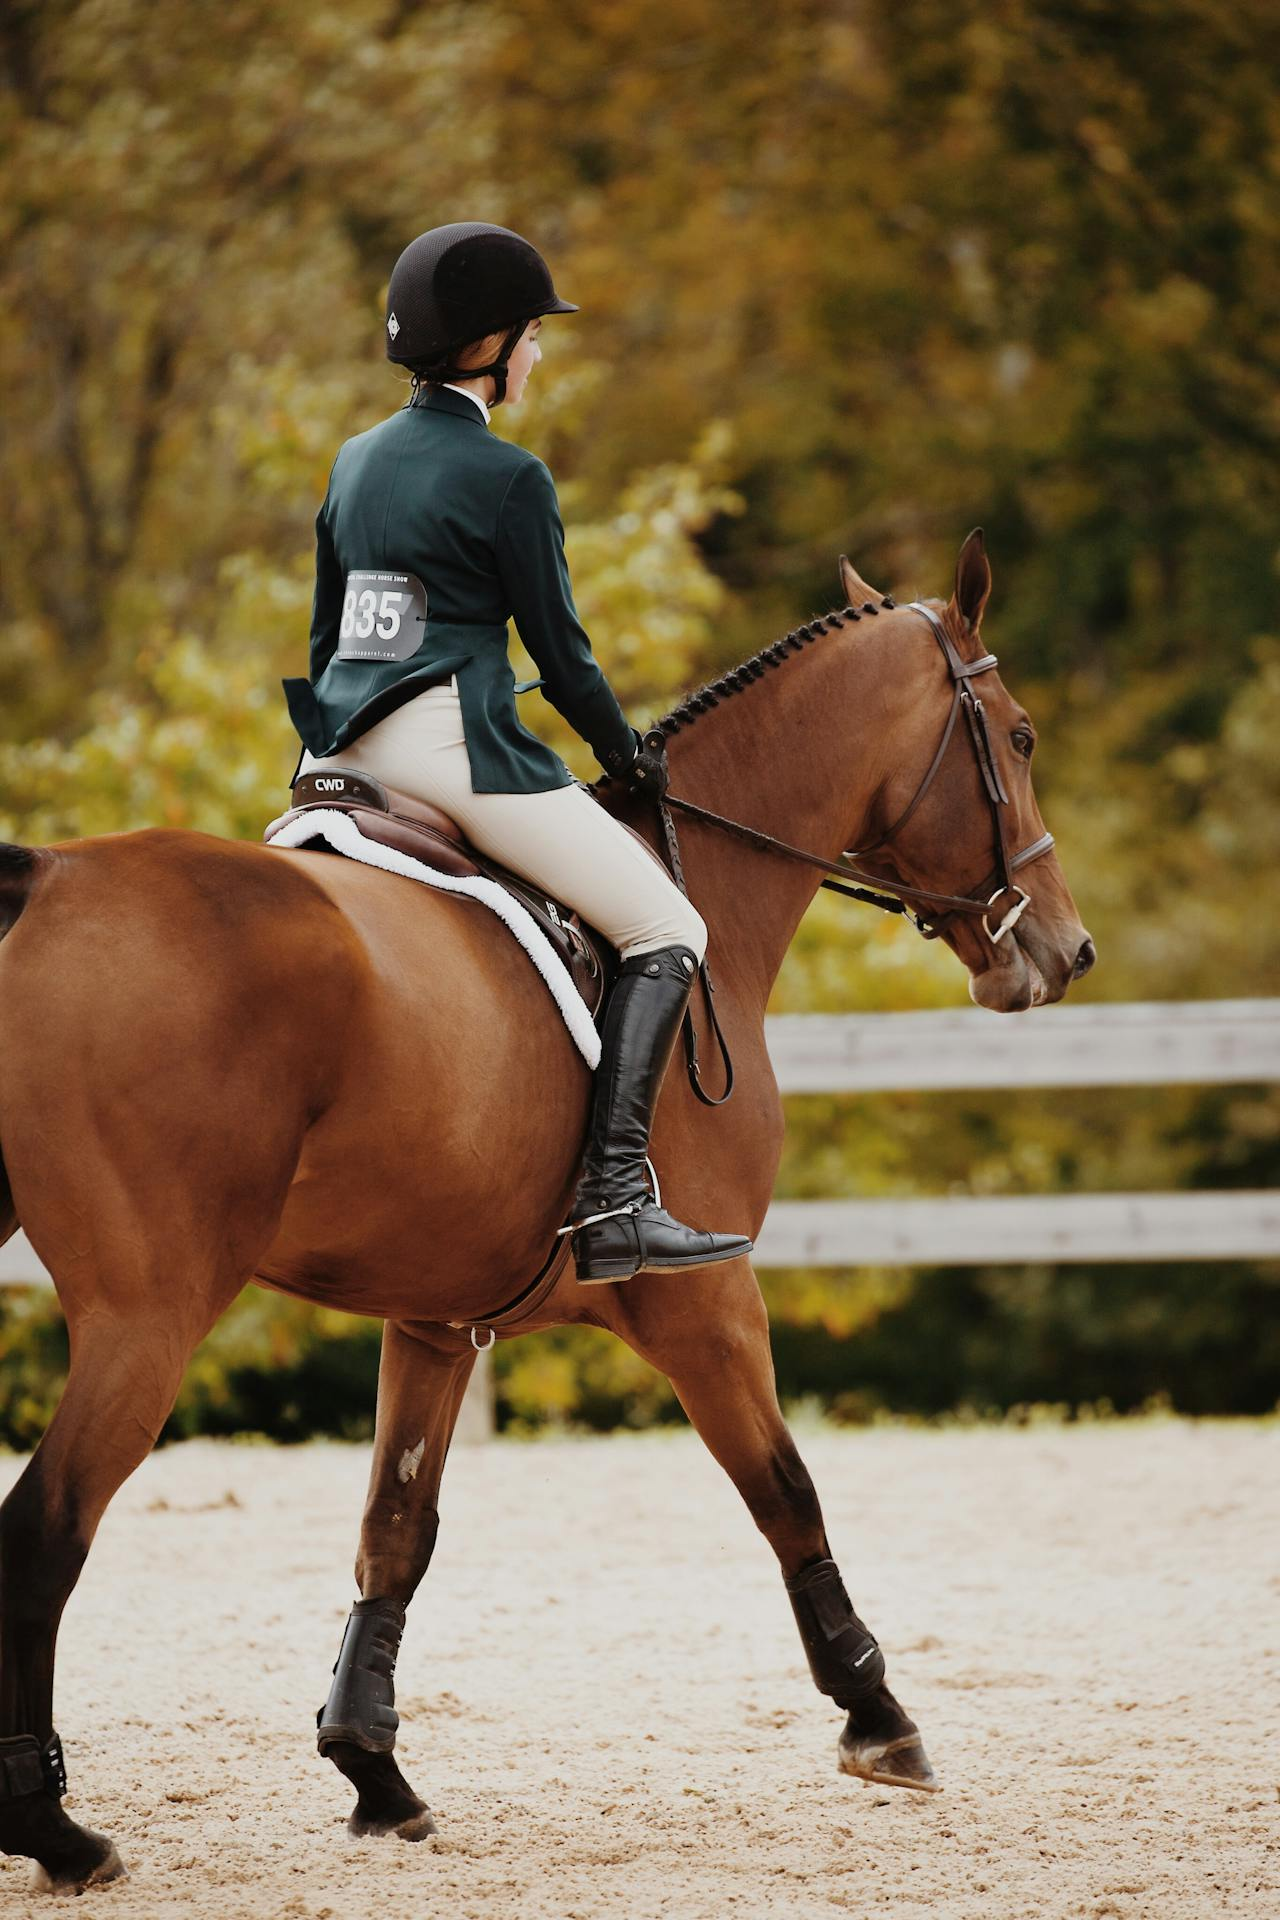horse: (12, 478, 1108, 1872)
person: (314, 180, 764, 1315)
